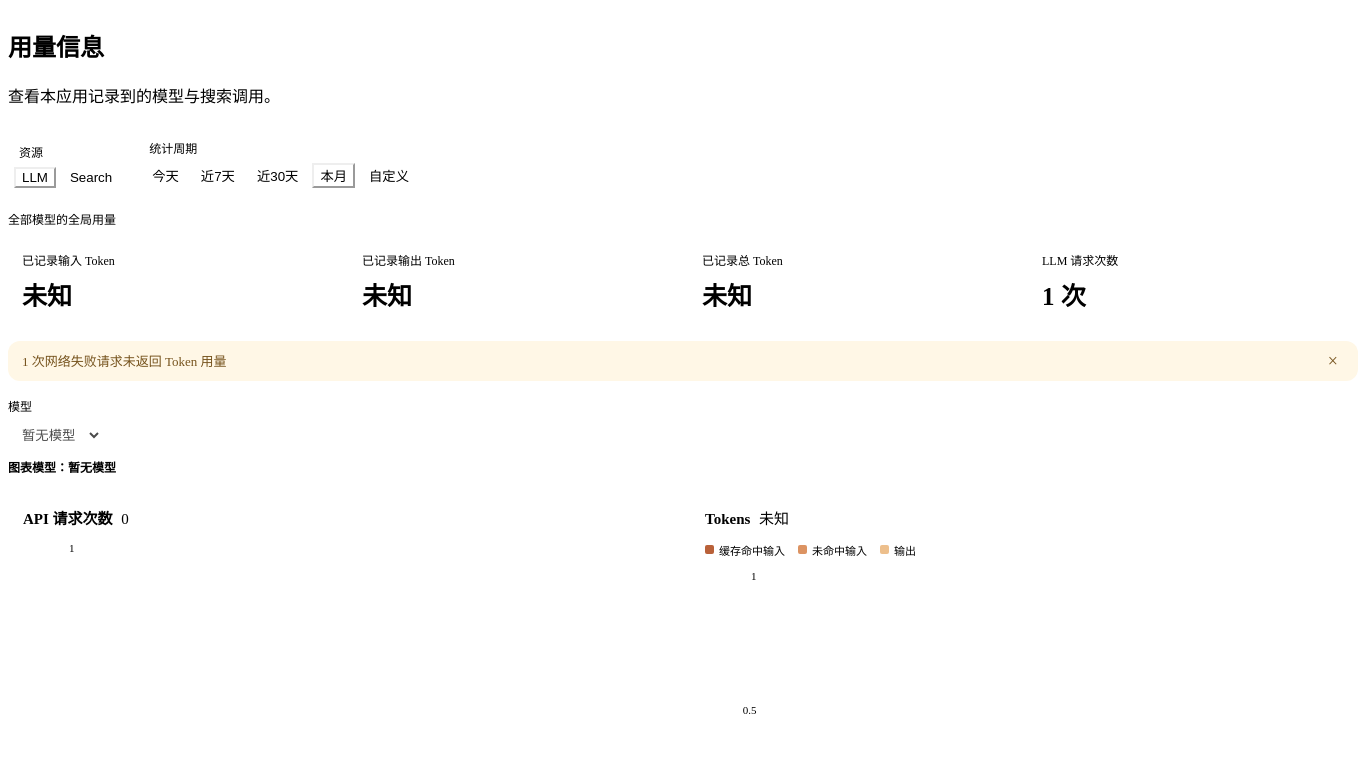
UsageDashboardView › refreshes the current filter after a pending deletion instead of restoring stale LLM data
Expected: the text "1 次网络失败请求未返回 Token 用量" is shown, [22,351,227,370]
Click the button named "永久删除这 1 条失败记录".
click(1333, 361)  # box [1322,351,1344,371]
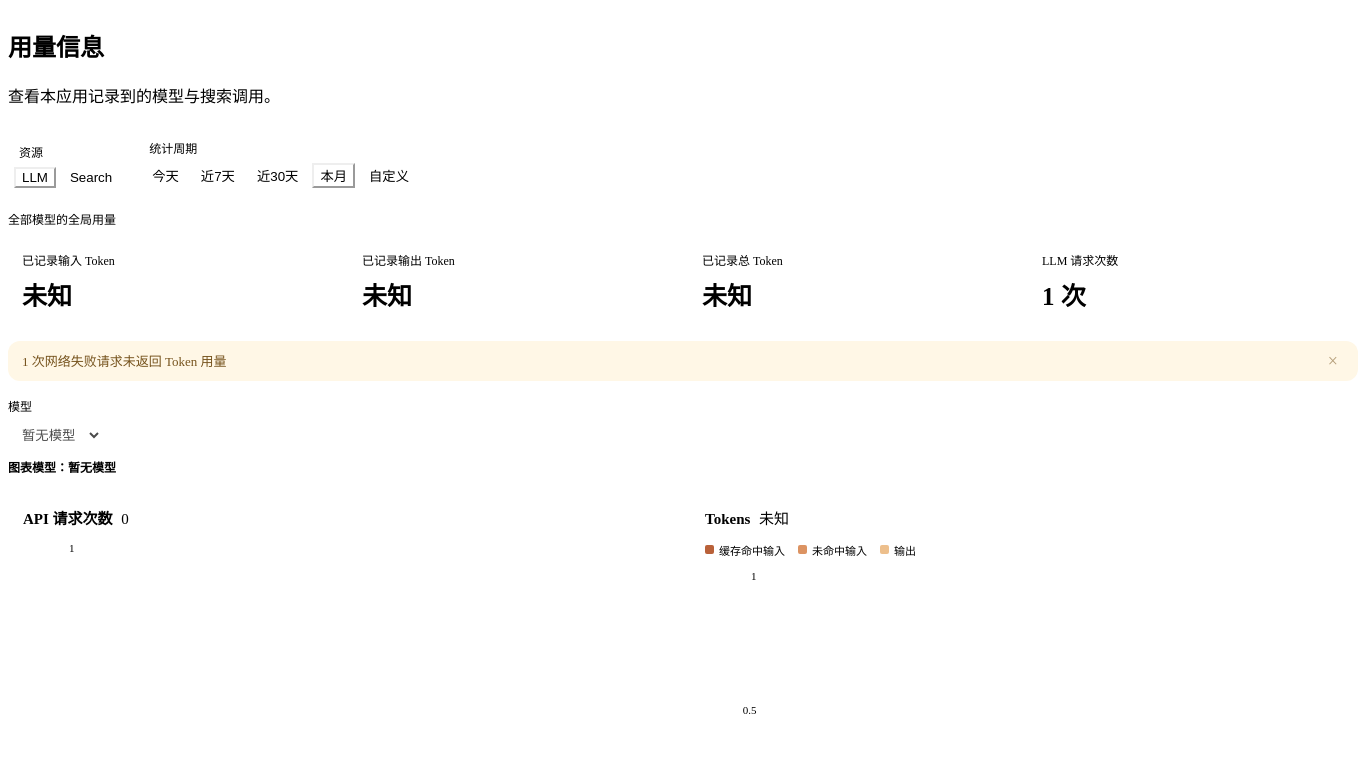
Click the button "Search".
click(91, 177)  # box [62,167,120,188]
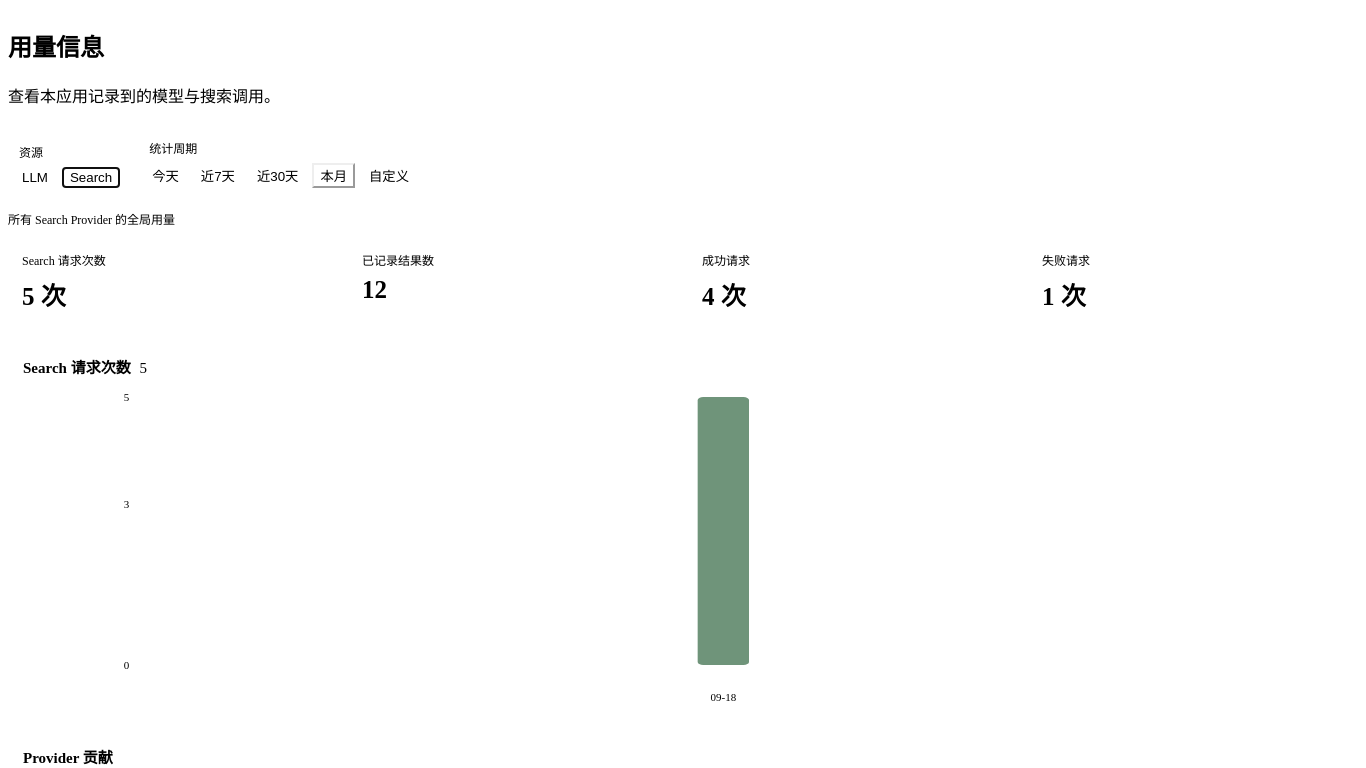
Result: the text "Search 请求次数" is shown at [22,254,106,268]
